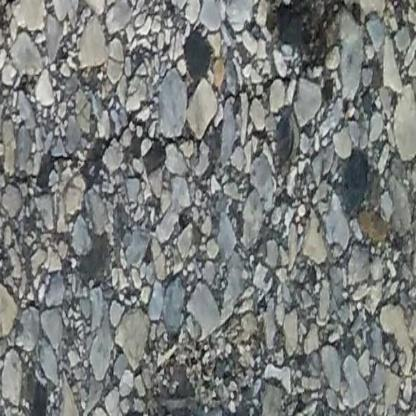Cracks: (263, 0, 356, 70), (3, 0, 25, 6)
